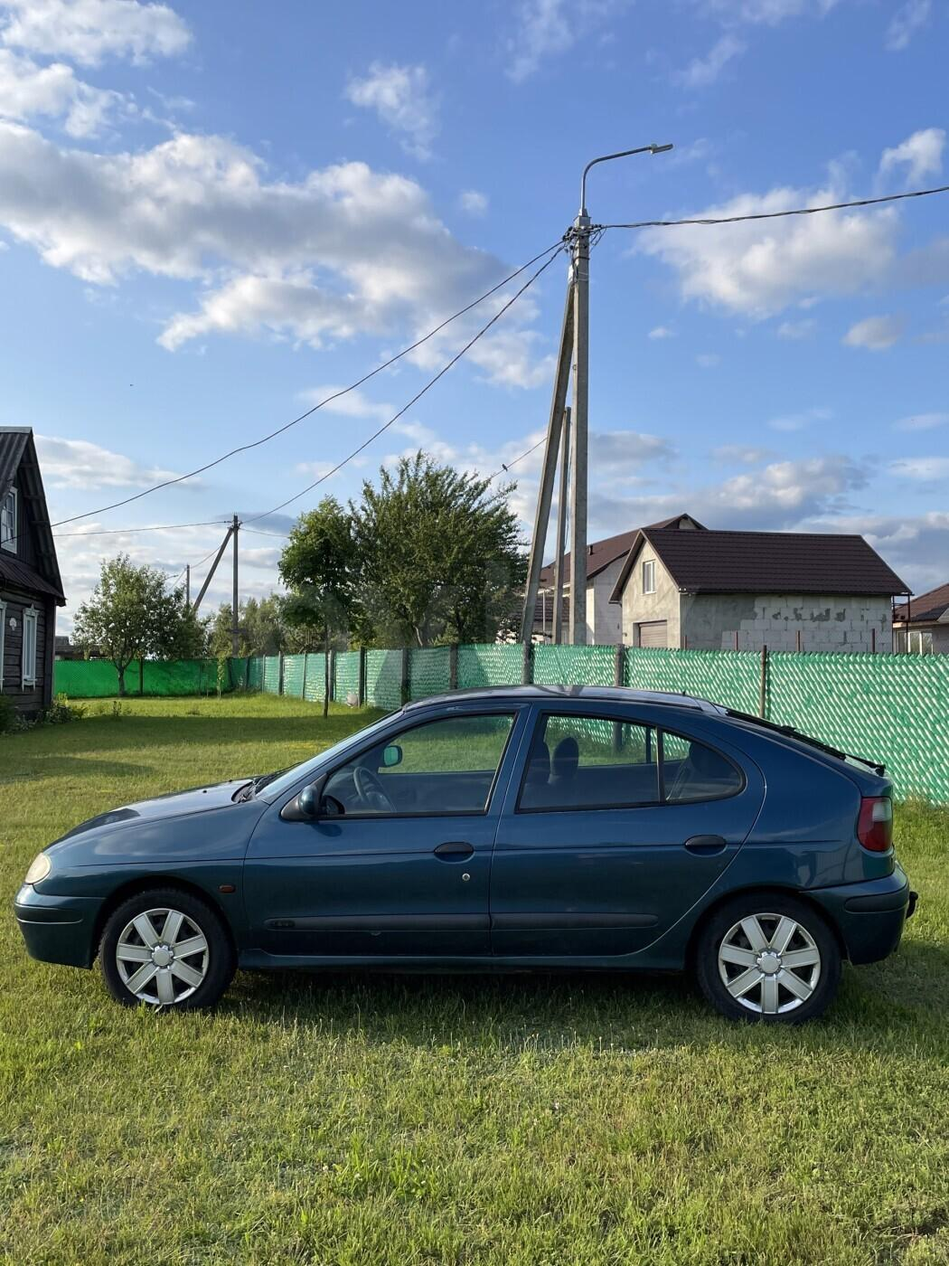Megane_1999-2003: (16, 680, 913, 1053)
